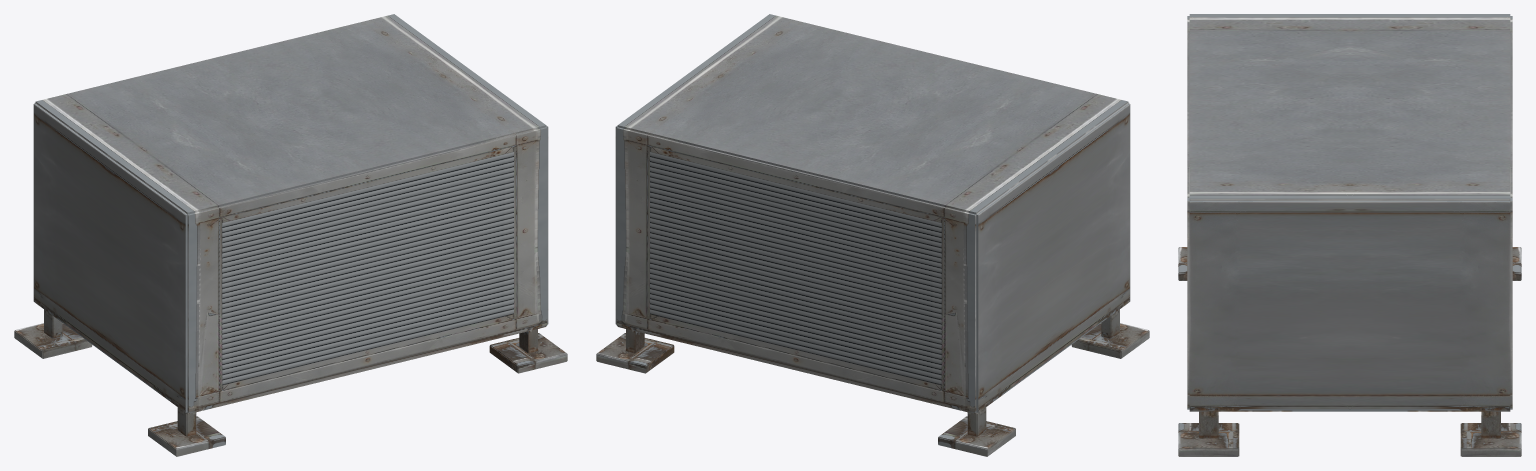
File: SM_ventilation_unit.fbx
3 renders of one model, left to right at view 1: azimuth 30°, elevation 25°; view 2: azimuth 150°, elevation 25°; view 3: azimuth 270°, elevation 25°, orthographic. The views are drawn at different scales.
Parts seen in each view (by area): view 1: SM_ventilation_unit; view 2: SM_ventilation_unit; view 3: SM_ventilation_unit.
Part boxes in pixels (left/top/right/bottom): SM_ventilation_unit: left=14, top=14, right=567, bottom=456; SM_ventilation_unit: left=596, top=14, right=1149, bottom=456; SM_ventilation_unit: left=1178, top=14, right=1521, bottom=456.
Size of the model in its own units: 1.79 by 1.03 by 1.28.
Materials: 1 (1 with a texture image).
